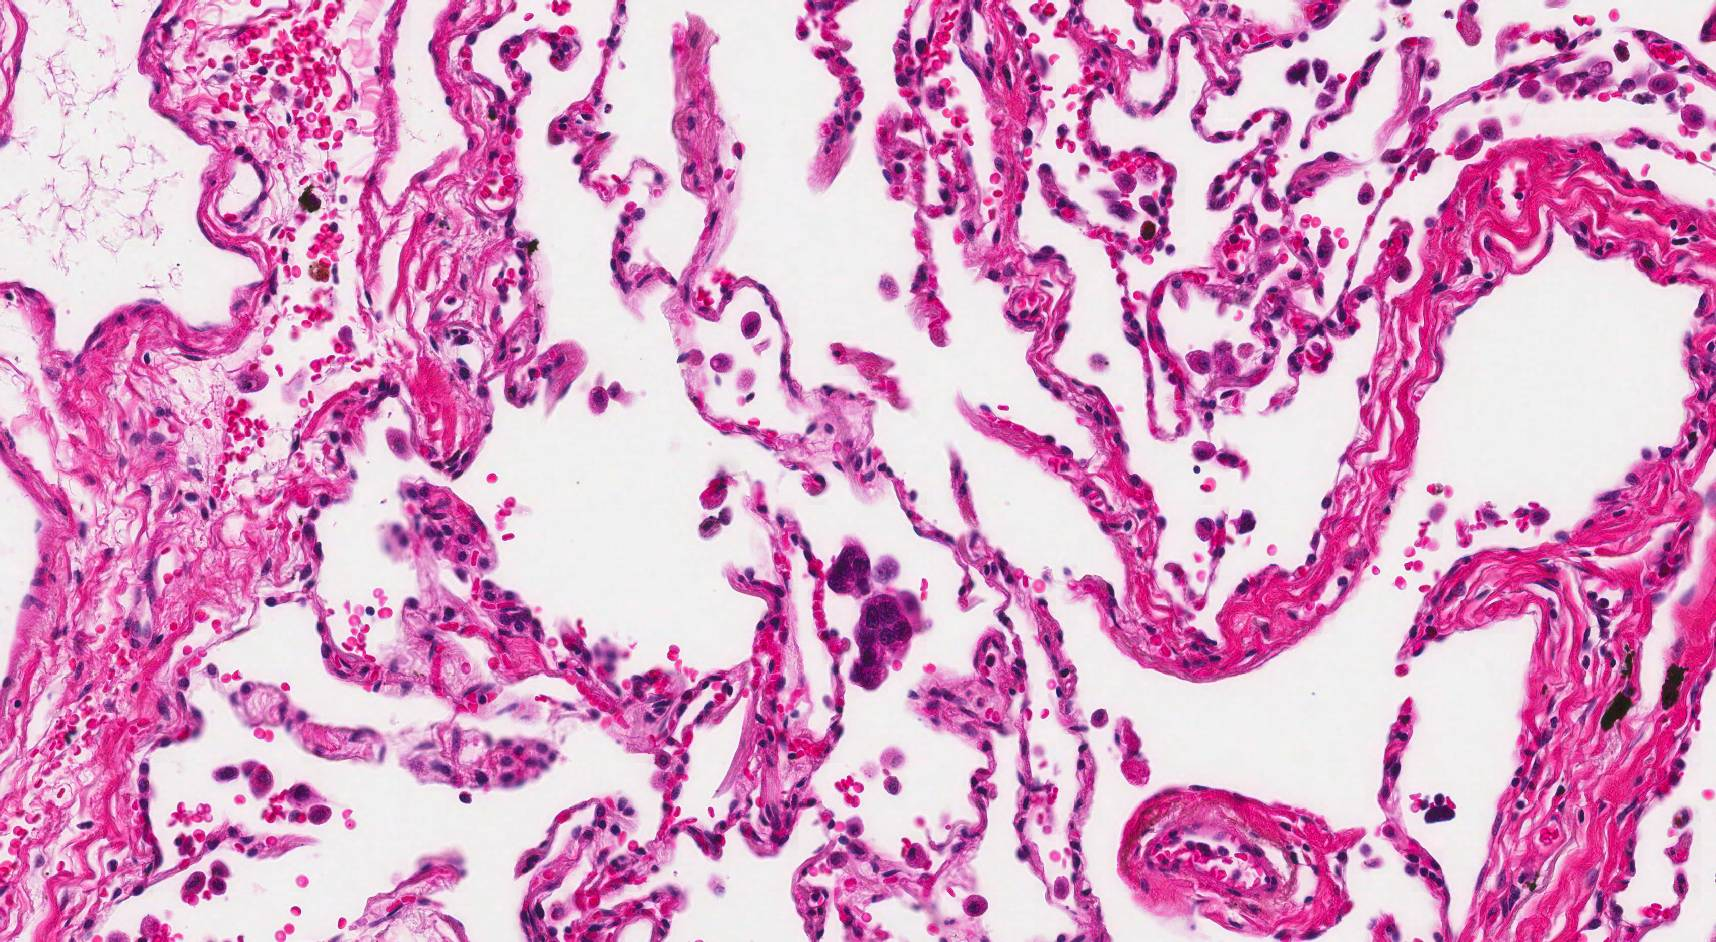stas: (825, 538, 932, 690)
